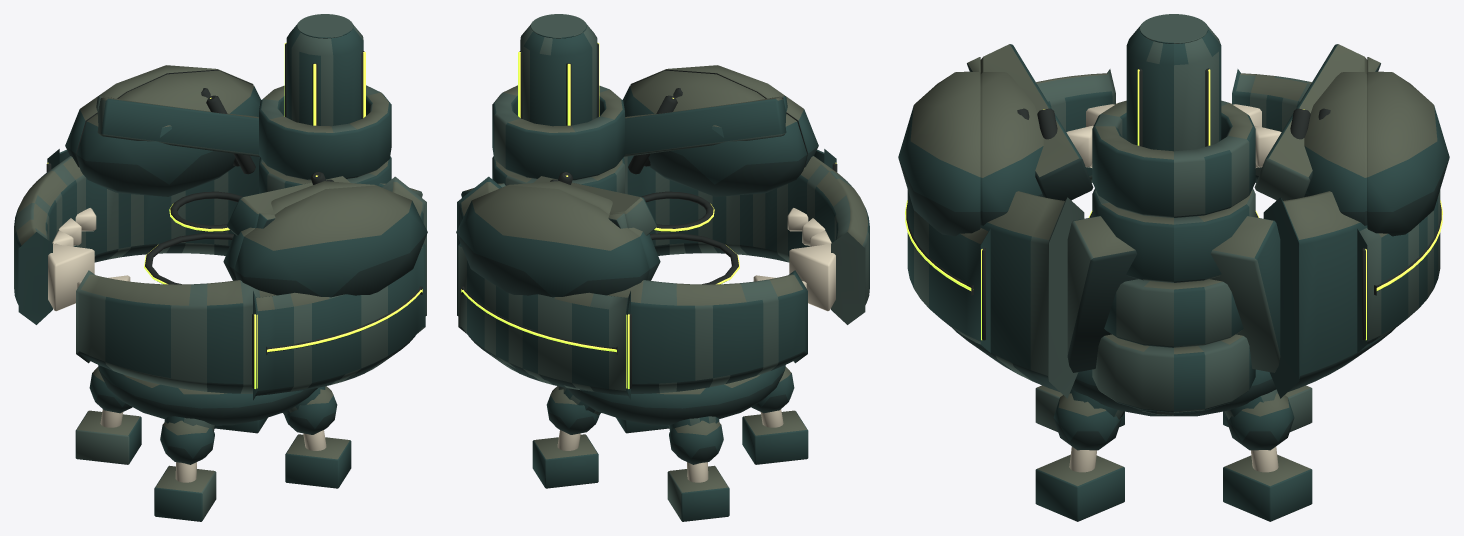
Rendered from warden_clamp_base.glb.
3 views of the same model, side by side, from view 1: azimuth 30°, elevation 25°; view 2: azimuth 150°, elevation 25°; view 3: azimuth 270°, elevation 25° (orthographic). The views are drawn at different scales.
Visible parts, largest first — view 1: JawR, JawL, Housing, ArmourSegment2, ArmourSegment1, Tower, ArmourSegment3, ArmourSegment0; view 2: JawL, JawR, Housing, ArmourSegment3, ArmourSegment0, Tower, ArmourSegment2, ArmourSegment1; view 3: JawR, JawL, Housing, ArmourSegment2, ArmourSegment3, Tower, ArmourSegment0, ArmourSegment1.
Boxes of the visible parts, box(x1,y1,x2,y2) form: JawR: box(76, 85, 426, 400); JawL: box(14, 149, 391, 324); Housing: box(75, 365, 351, 521); ArmourSegment2: box(76, 70, 260, 196); ArmourSegment1: box(234, 185, 427, 297); Tower: box(169, 14, 365, 232); ArmourSegment3: box(223, 172, 375, 280); ArmourSegment0: box(65, 65, 253, 192); JawL: box(457, 156, 807, 400); JawR: box(492, 85, 869, 324); Housing: box(532, 365, 808, 521); ArmourSegment3: box(623, 70, 807, 196); ArmourSegment0: box(456, 185, 649, 297); Tower: box(518, 14, 714, 232); ArmourSegment2: box(508, 172, 660, 280); ArmourSegment1: box(630, 65, 818, 192); JawR: box(905, 69, 1259, 398); JawL: box(1092, 69, 1442, 412); Housing: box(1035, 369, 1312, 521); ArmourSegment2: box(1254, 44, 1367, 225); ArmourSegment3: box(980, 44, 1093, 225); Tower: box(1126, 14, 1221, 415); ArmourSegment0: box(1367, 57, 1449, 236); ArmourSegment1: box(898, 57, 980, 236).
Size of the model in its own units: 6.74 by 7.74 by 7.7.
